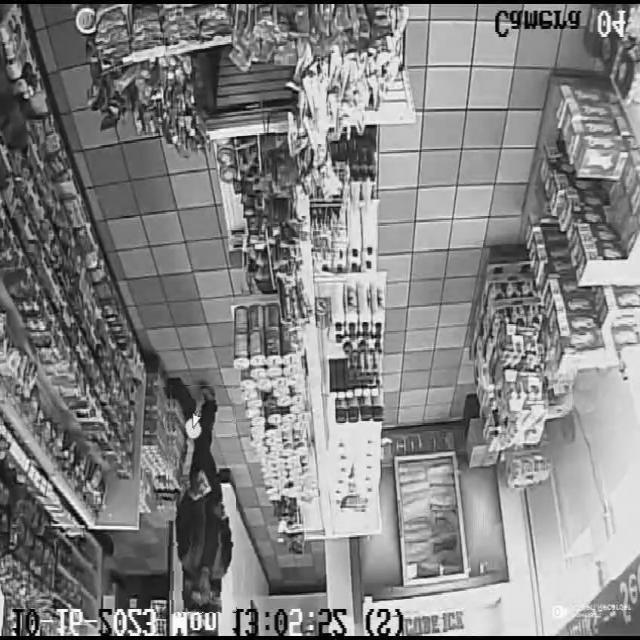Normal: (165, 385, 236, 614)
